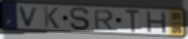H: (145, 10, 168, 34)
K: (43, 6, 61, 30)
R: (93, 10, 115, 31)
S: (69, 6, 91, 32)
T: (123, 9, 142, 34)
V: (18, 6, 40, 28)
